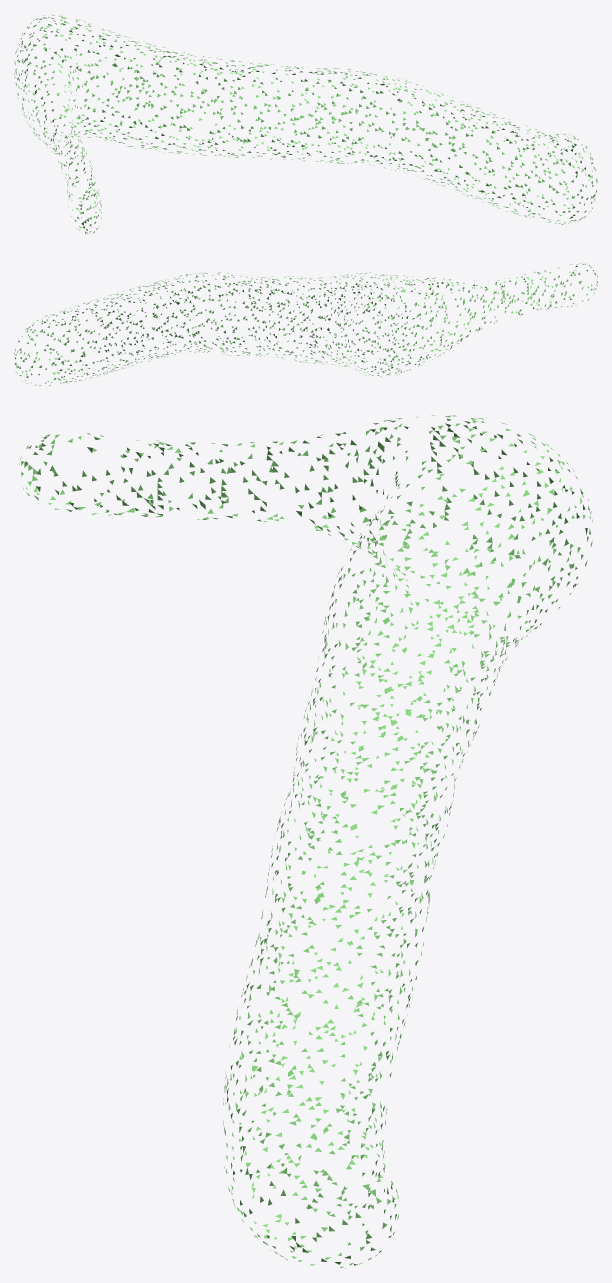
The model's file is morph_016.glb.
3 renders of one model, top to bottom at view 1: azimuth 30°, elevation 25°; view 2: azimuth 150°, elevation 25°; view 3: azimuth 270°, elevation 25°, orthographic. The views are drawn at different scales.
Bounding box in the file's own units: 125 × 54.64 × 62.2.
